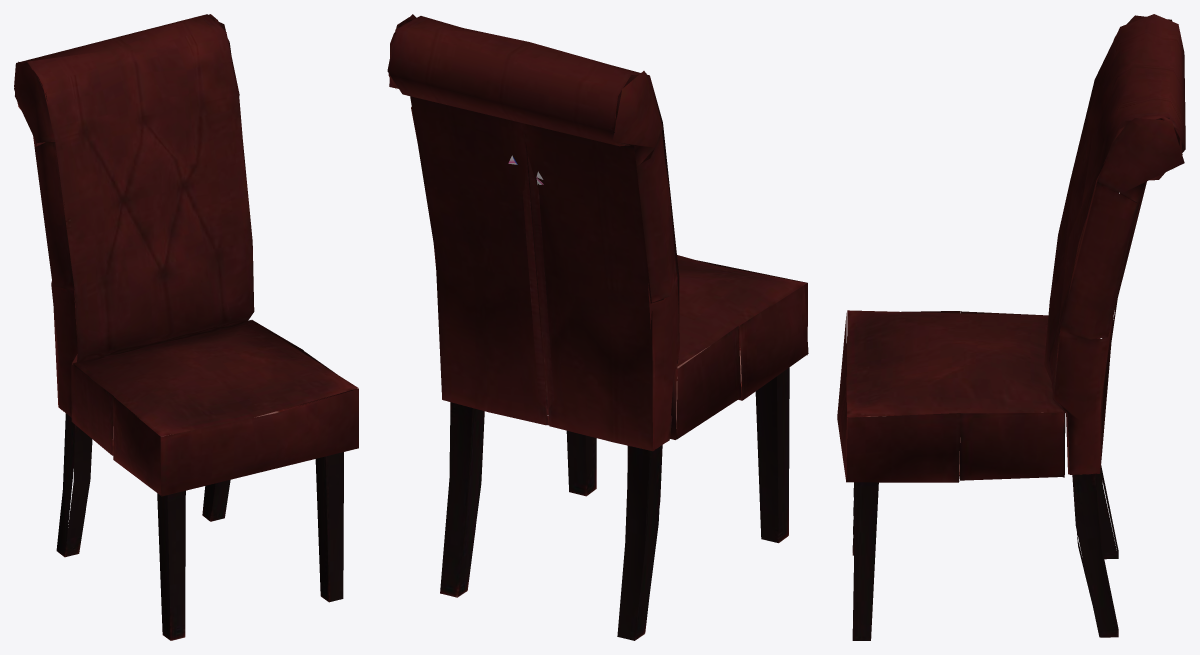
The model's file is katz_chair.glb.
3 views of the same model, side by side, from view 1: azimuth 30°, elevation 25°; view 2: azimuth 150°, elevation 25°; view 3: azimuth 270°, elevation 25° (orthographic). The views are drawn at different scales.
Parts seen in each view (by area): view 1: dining_chair_02; view 2: dining_chair_02; view 3: dining_chair_02.
Part boxes in pixels (<box>): dining_chair_02: <box>14,14,358,640</box>; dining_chair_02: <box>387,14,808,640</box>; dining_chair_02: <box>837,14,1185,640</box>.
Size of the model in its own units: 0.4306 by 0.9738 by 0.5799.
2 materials, 2 textured.
